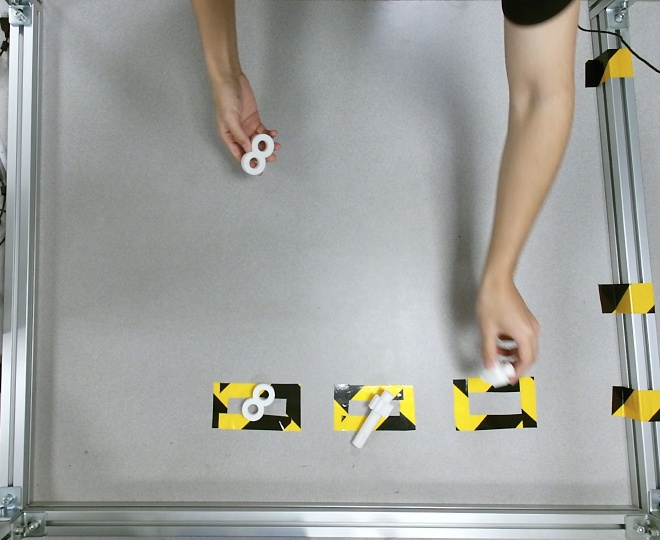stage_1: (241, 134, 274, 174)
